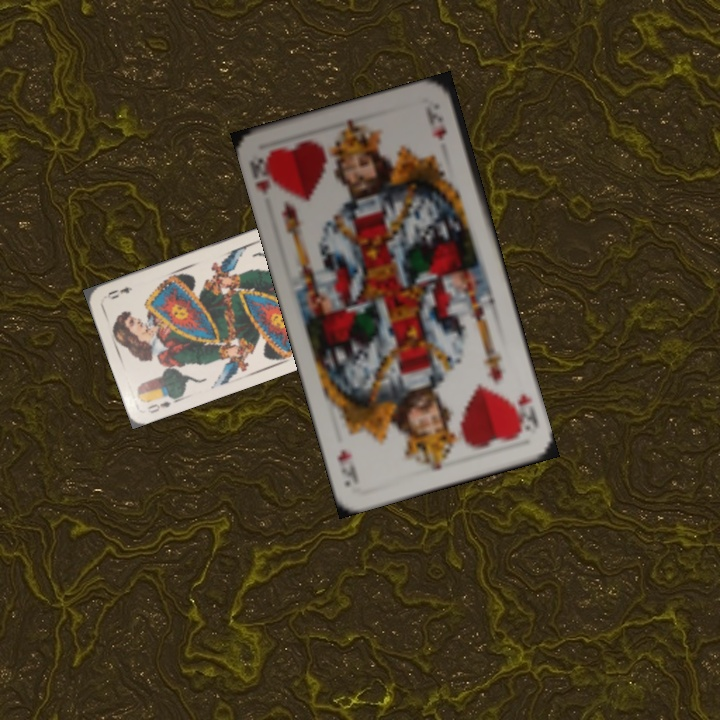EO: (143, 391, 181, 416)
HK: (245, 149, 282, 197), (507, 390, 541, 436)
